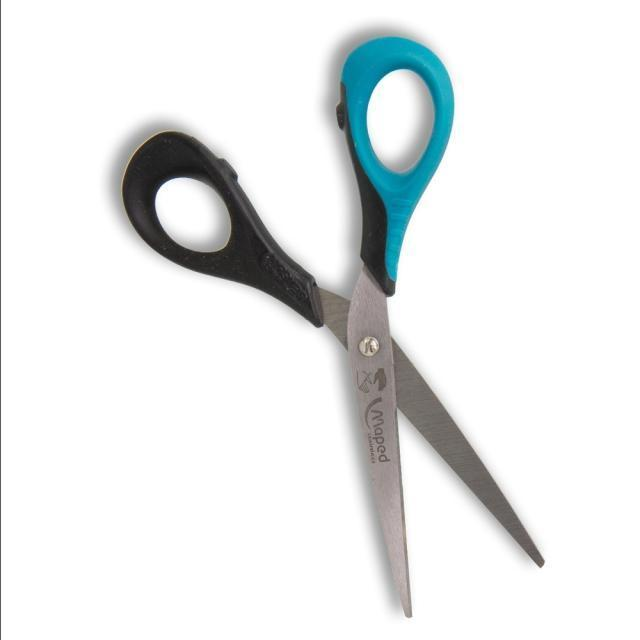scissor: (117, 35, 552, 620)
